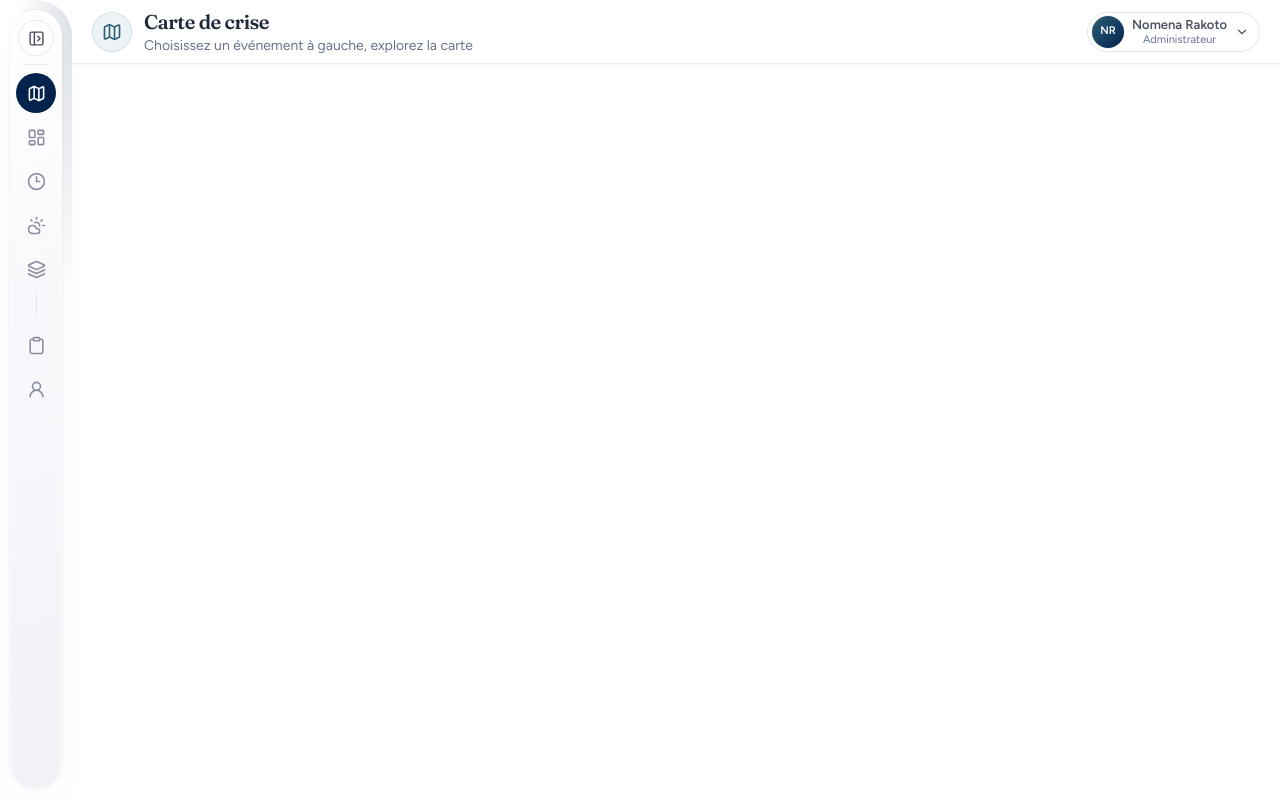
Test: AppShell — menu du sidebar › bascule le thème clair / sombre
The width and height of the screenshot is (1280, 800).
What coordinates should you click on to do the following:
click the button named "Agrandir le menu"
I would click on:
 (36, 38)
Its box is [18,20,54,56].
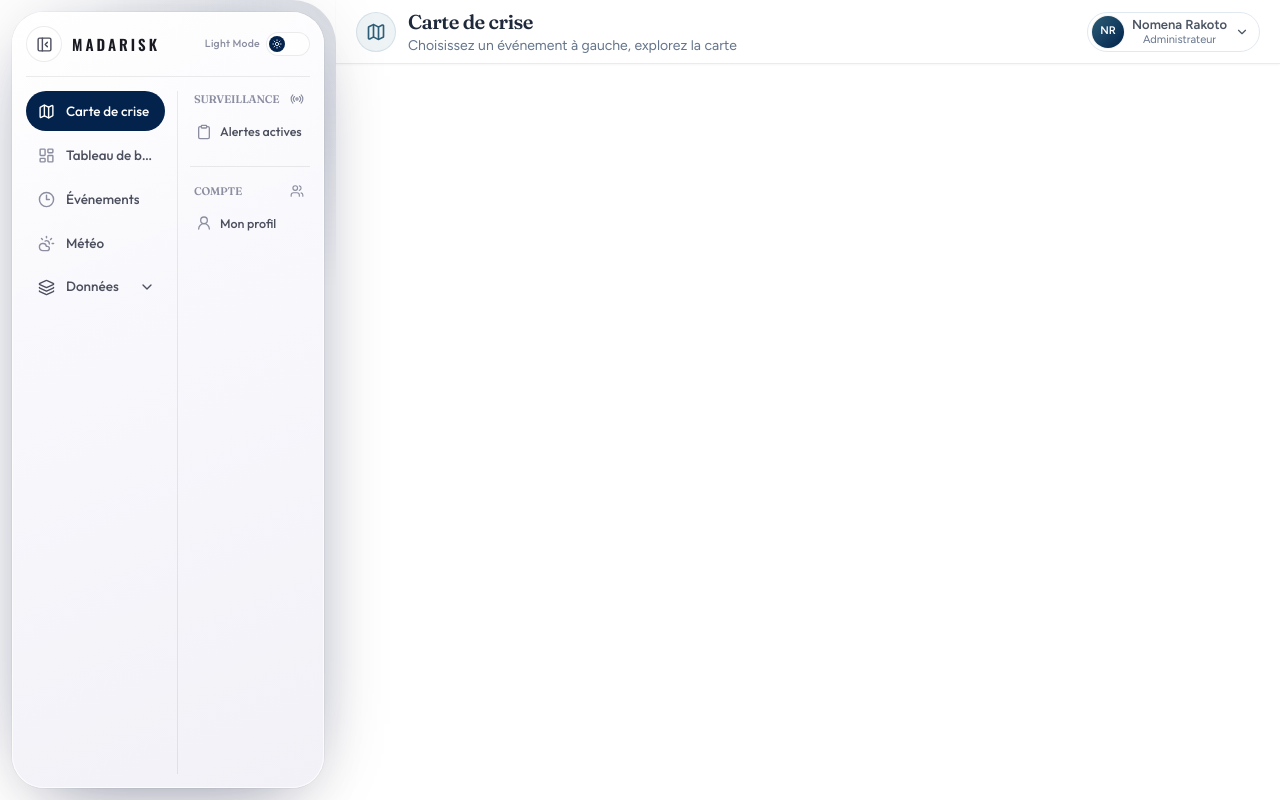
What coordinates should you click on to do the following:
click the switch named "Passer en mode sombre"
I would click on:
 (288, 44)
Its box is [266,32,310,56].
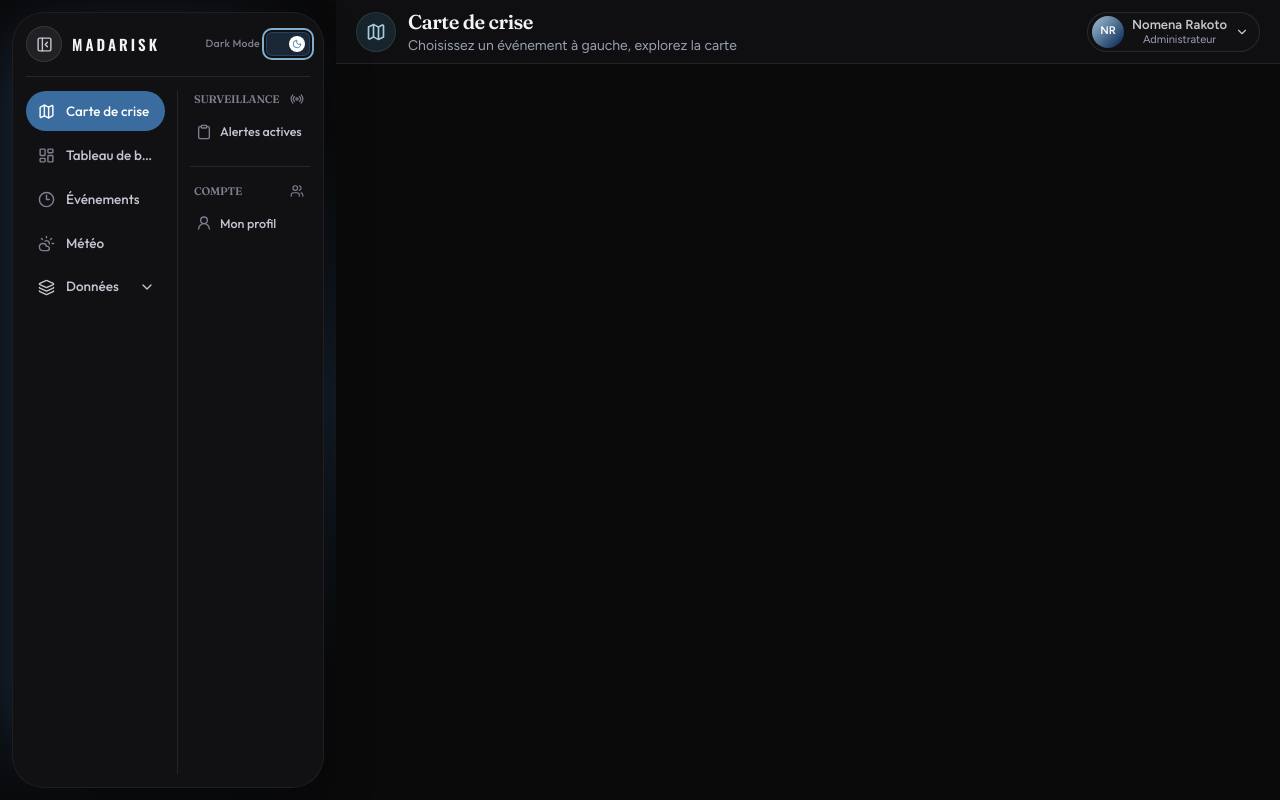
Expected: the switch named "Passer en mode clair" is shown, [266,32,310,56]
